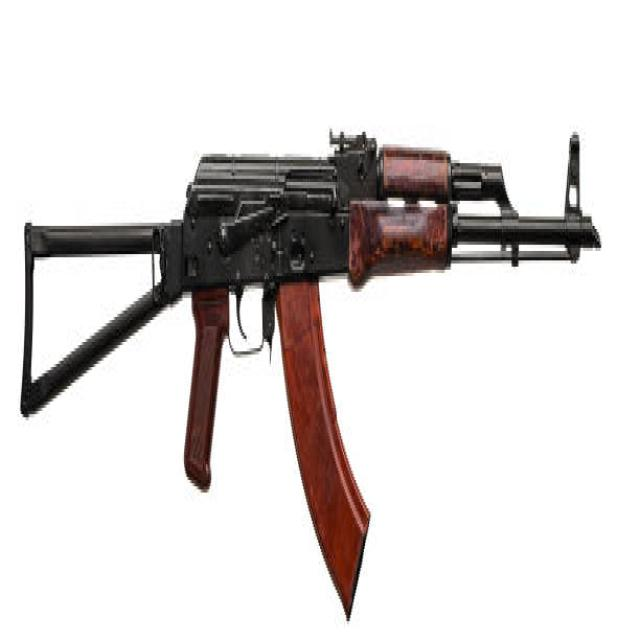rifle: (15, 97, 606, 631)
